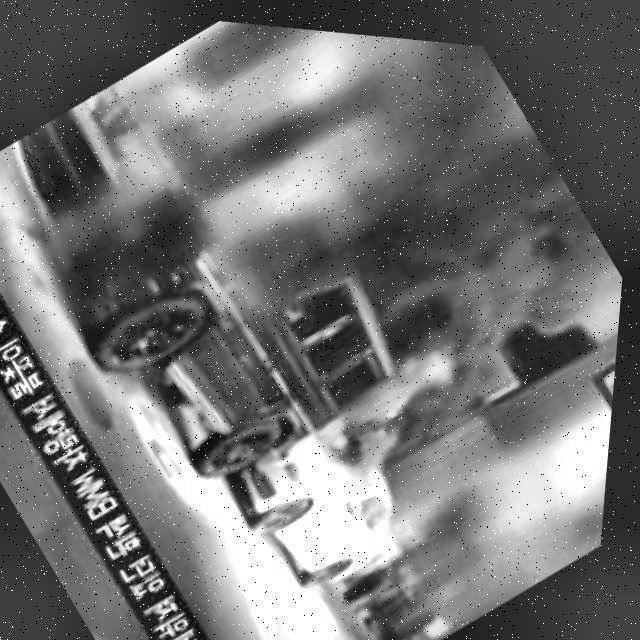Fire: (310, 383, 401, 471)
